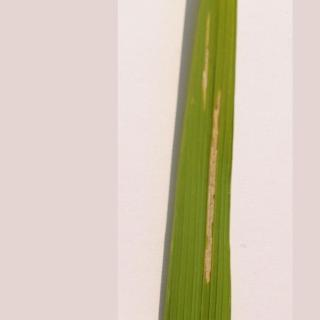Hawar-Daun: (196, 84, 230, 290), (197, 10, 215, 110)
